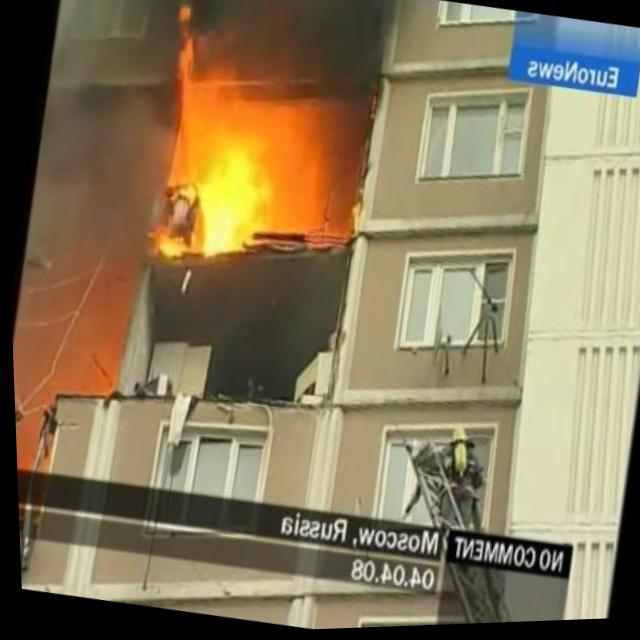fire: (131, 0, 301, 273)
